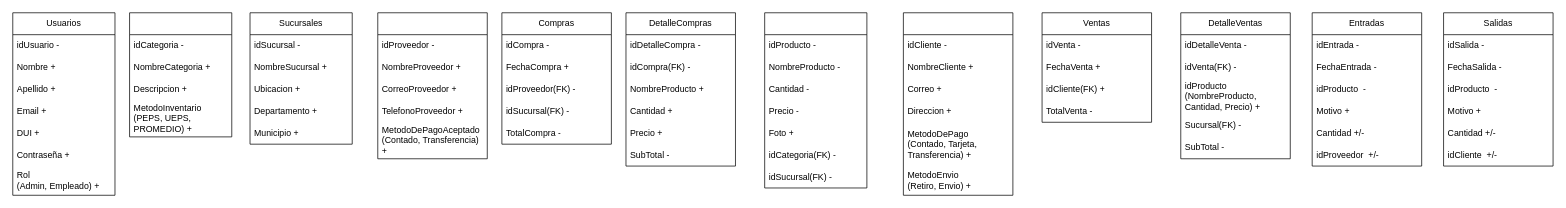
Some shapes in this 1566 by 208 pixel diagram are drawn without their labels. The shapes that lost their labels are listed below. From the top down, each one's box as (x1, y1, x2, y2) in pixels, then its label:
(129, 12, 232, 137): Categorias
(377, 12, 487, 159): Proveedores
(764, 12, 867, 188): Productos
(903, 12, 1013, 195): Clientes
